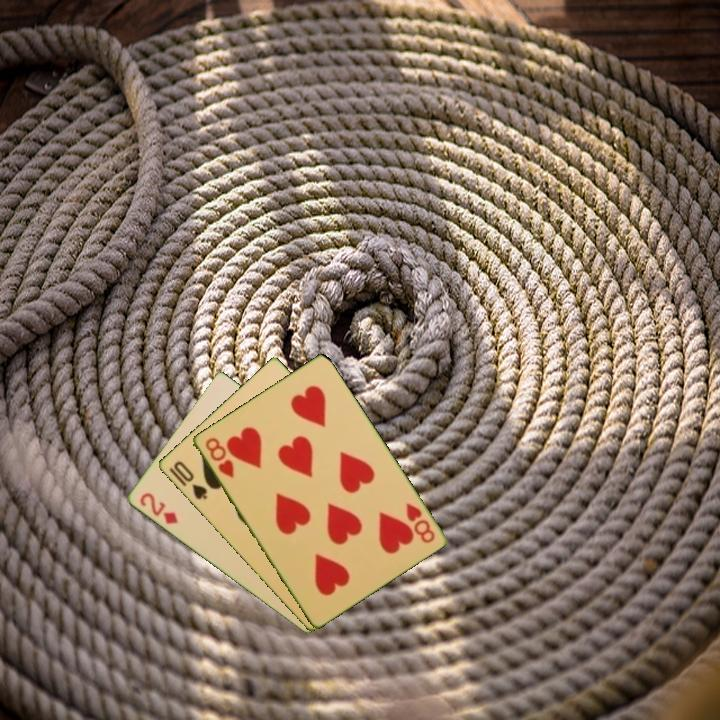10s: (170, 457, 210, 503)
2d: (136, 489, 180, 527)
8h: (201, 434, 237, 481), (402, 499, 437, 546)
